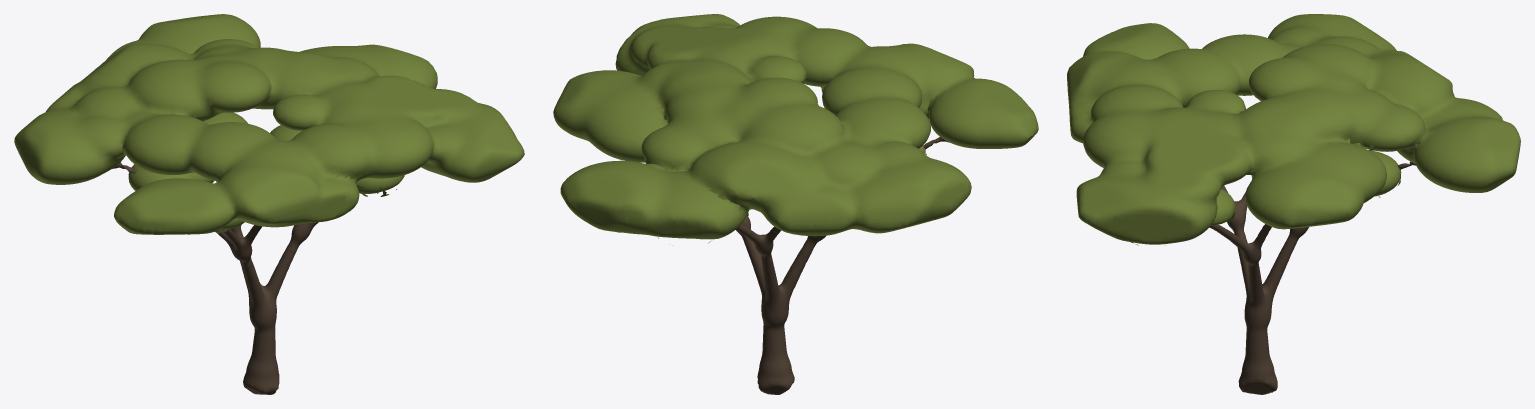
The model's file is acacia.glb.
The picture shows the model from 3 angles, left to right: view 1: azimuth 30°, elevation 25°; view 2: azimuth 150°, elevation 25°; view 3: azimuth 270°, elevation 25°; orthographic projection. The views are drawn at different scales.
Visible parts, largest first — view 1: crown, trunk; view 2: crown, trunk; view 3: crown, trunk.
Part boxes in pixels (x1,y1,x2,y2): crown: [14, 14, 524, 234]; trunk: [112, 162, 318, 394]; crown: [553, 14, 1038, 239]; trunk: [736, 137, 949, 394]; crown: [1067, 14, 1520, 244]; trunk: [1209, 161, 1416, 394].
Size of the model in its own units: 9.78 by 7.51 by 9.6.
